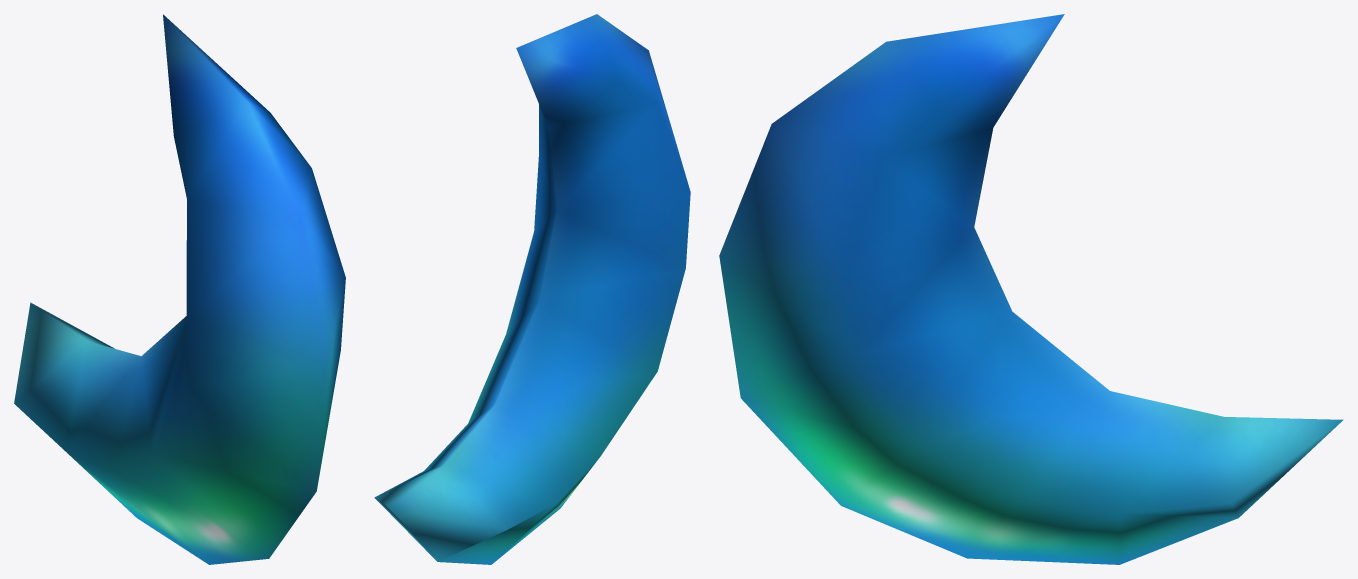
Rendered from scenes_common_jewel01.FBX.
3 views of the same model, side by side, from view 1: azimuth 30°, elevation 25°; view 2: azimuth 150°, elevation 25°; view 3: azimuth 270°, elevation 25° (orthographic). The views are drawn at different scales.
Parts seen in each view (by area): view 1: scenes_common_jewel01; view 2: scenes_common_jewel01; view 3: scenes_common_jewel01.
Boxes of the visible parts, x1,y1,x2,y2 form: scenes_common_jewel01: [14, 14, 345, 564]; scenes_common_jewel01: [374, 14, 690, 564]; scenes_common_jewel01: [719, 14, 1343, 564].
Size of the model in its own units: 7.41 by 23.27 by 23.9.
